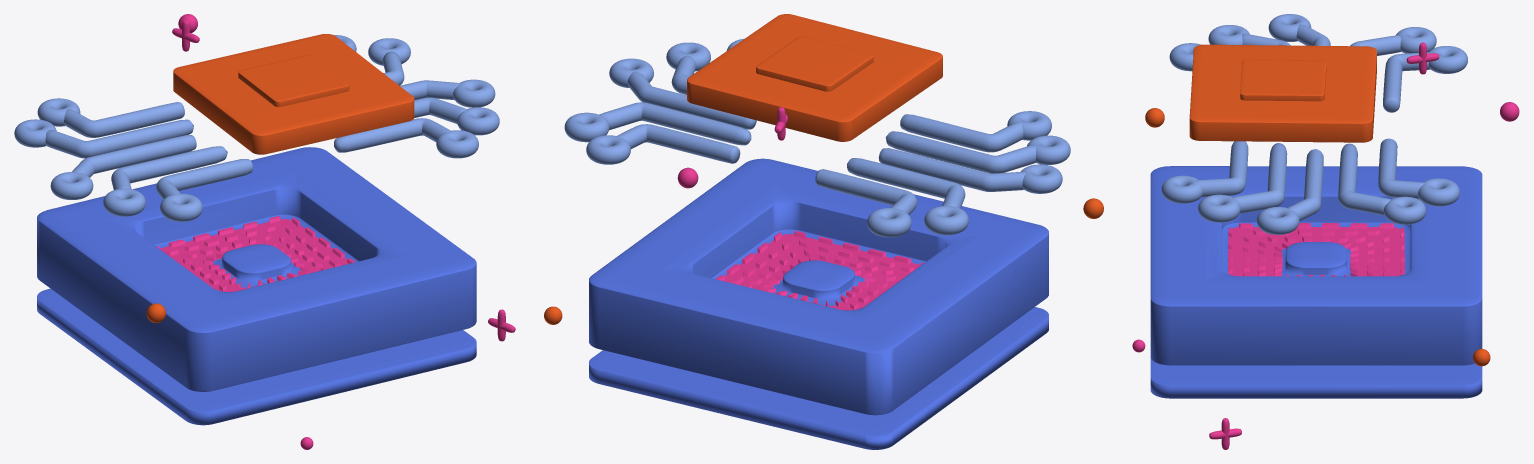
File: technology-3d-animated-icon-1053998933320.glb
The picture shows the model from 3 angles, left to right: view 1: azimuth 30°, elevation 25°; view 2: azimuth 150°, elevation 25°; view 3: azimuth 270°, elevation 25°; orthographic projection. The views are drawn at different scales.
Visible parts, largest first — view 1: chip.003, chip.002, chip.004, trail.011, trail.001, trail.002, trail.013, trail.006, trail.007, trail.005, trail.004, trail.009; view 2: chip.003, chip.002, chip.004, trail.009, trail.001, trail.002, trail.011, trail.010, trail.007, trail.013, trail.004, trail.005; view 3: chip.003, chip.002, chip.004, trail.009, trail.005, trail.010, trail.006, trail.004, trail.013, trail.011, trail.002, trail.001 (+3 smaller).
Boxes of the visible parts, x1,y1,x2,y2 form: chip.003: (37,147,476,425); chip.002: (173,34,414,154); chip.004: (156,216,355,291); trail.011: (14,119,193,158); trail.001: (103,146,227,216); trail.002: (50,135,196,199); trail.013: (37,98,184,137); trail.006: (334,118,478,158); trail.007: (156,159,252,221); trail.005: (414,97,499,135); trail.004: (400,79,495,107); trail.009: (368,38,410,85); chip.003: (589,158,1048,449); chip.002: (687,14,942,141); chip.004: (715,230,924,310); trail.009: (564,102,751,145); trail.001: (885,131,1070,173); trail.002: (878,148,1062,193); trail.011: (847,158,968,235); trail.010: (586,124,740,164); trail.007: (900,111,1051,152); trail.013: (815,169,917,237); trail.004: (609,58,756,129); trail.005: (666,42,710,95); chip.003: (1150,166,1482,398); chip.002: (1189,44,1376,142); chip.004: (1228,223,1404,276); trail.009: (1338,143,1426,224); trail.005: (1198,143,1287,222); trail.010: (1378,138,1459,206); trail.006: (1161,141,1248,203); trail.004: (1257,149,1323,234); trail.013: (1383,46,1467,112); trail.011: (1350,27,1436,55); trail.002: (1268,14,1330,45); trail.001: (1208,25,1290,45).
Size of the model in its own units: 5.05 by 3.56 by 3.92.
